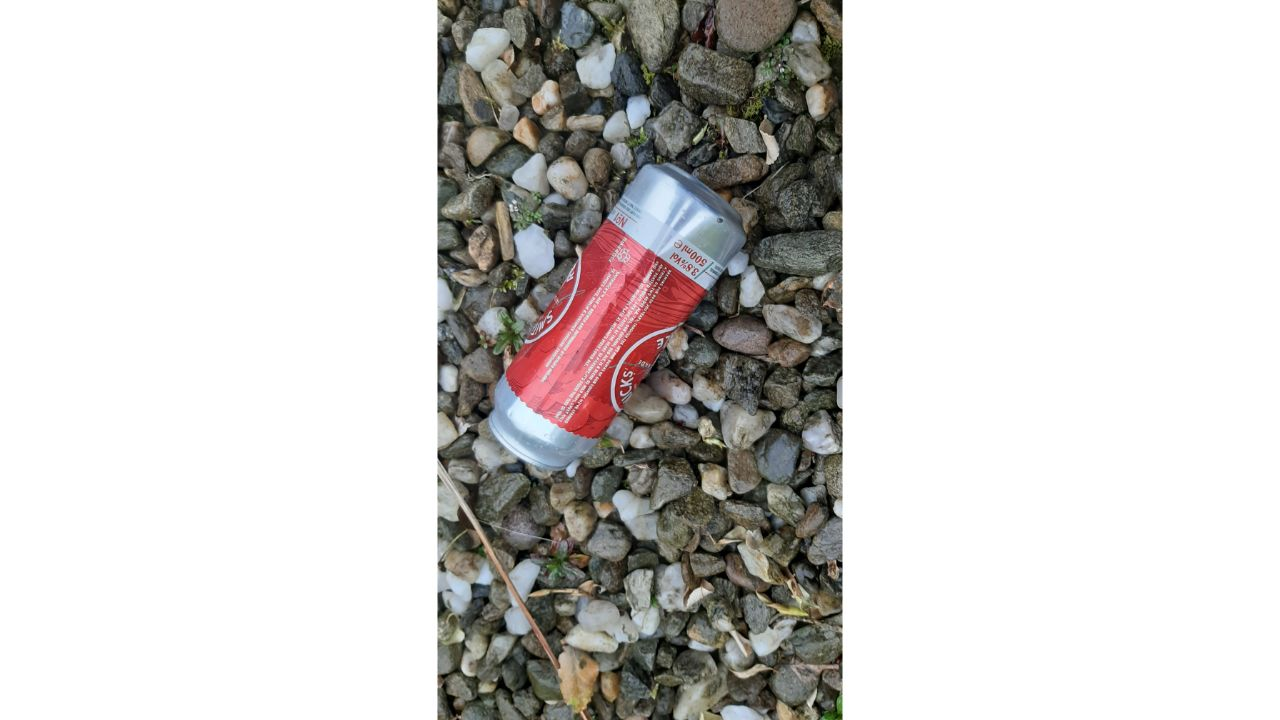Can: (486, 163, 744, 471)
